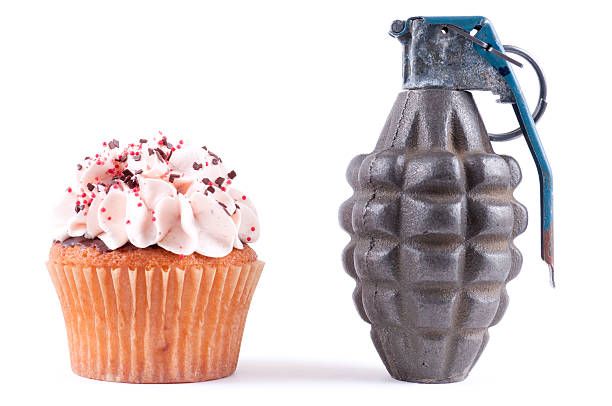e1: (342, 14, 557, 378)
